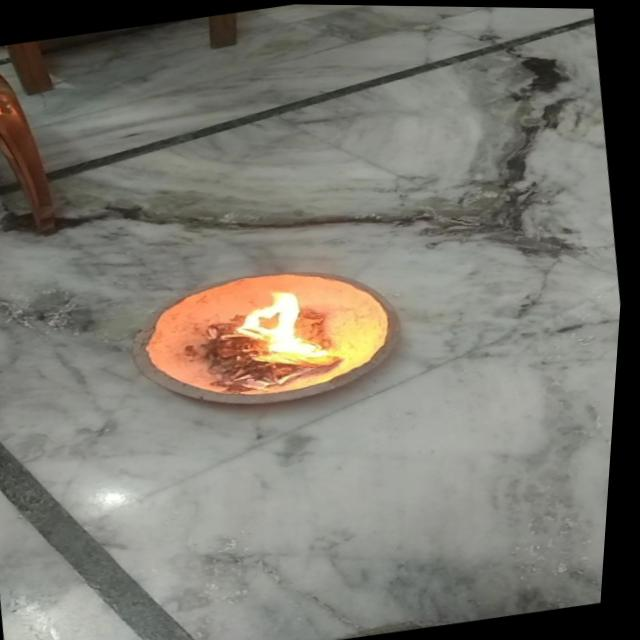fire: (220, 278, 347, 377)
